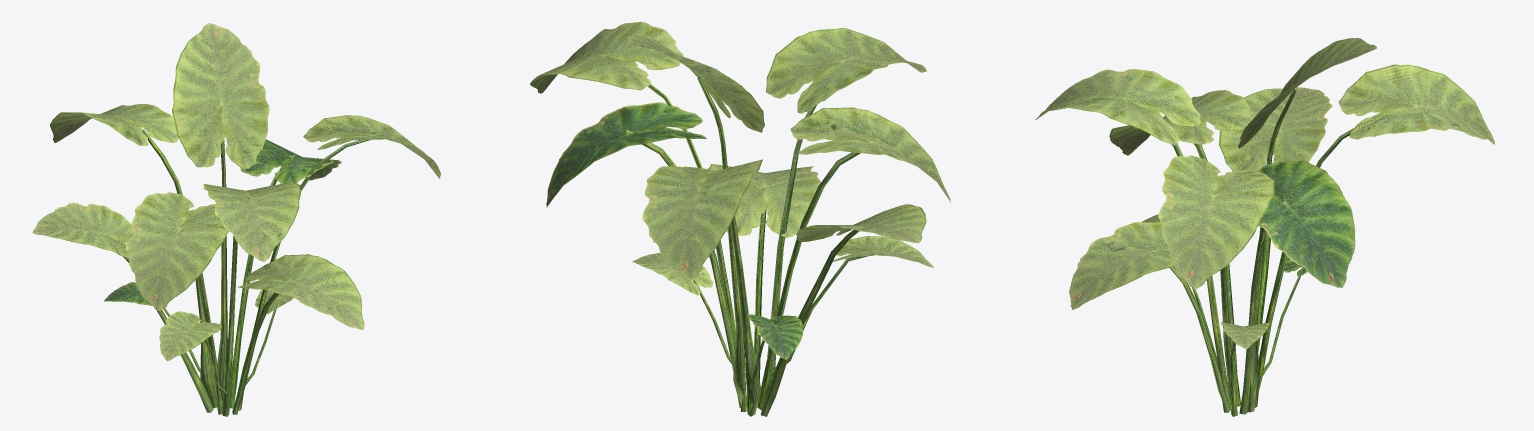
The model's file is S_Plant_ElephantEar_1.fbx.
The picture shows the model from 3 angles, left to right: view 1: azimuth 30°, elevation 25°; view 2: azimuth 150°, elevation 25°; view 3: azimuth 270°, elevation 25°; orthographic projection. The views are drawn at different scales.
Parts seen in each view (by area): view 1: S_Plant_ElephantEar_1; view 2: S_Plant_ElephantEar_1; view 3: S_Plant_ElephantEar_1.
Boxes of the visible parts, box(x1,y1,x2,y2) form: S_Plant_ElephantEar_1: box(32, 23, 441, 416); S_Plant_ElephantEar_1: box(530, 21, 950, 416); S_Plant_ElephantEar_1: box(1035, 38, 1494, 416).
Bounding box in the file's own units: 8.99 × 7.54 × 8.84.
